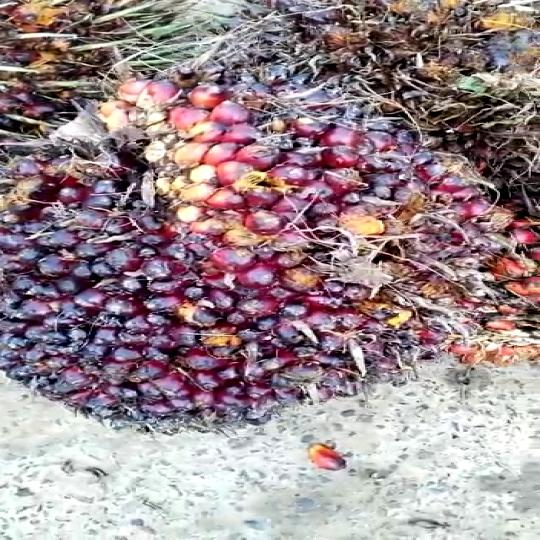masak: (0, 56, 511, 468)
